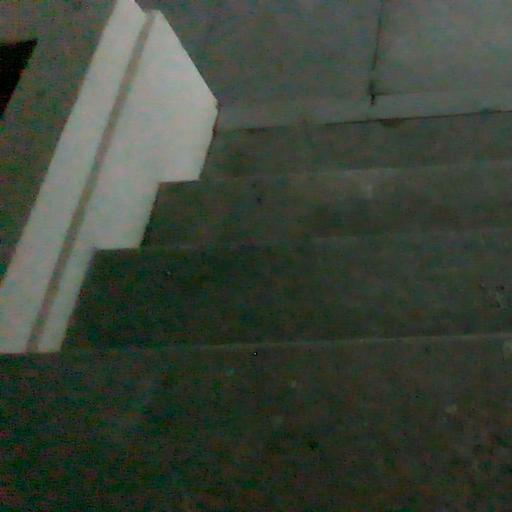stairs: (0, 114, 511, 511)
